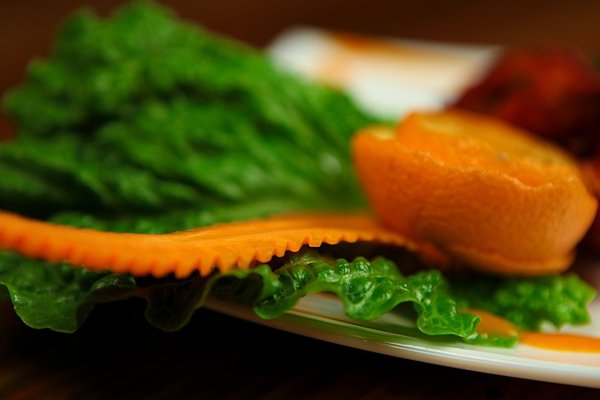curry: (0, 1, 385, 236)
soup: (349, 106, 597, 278)
